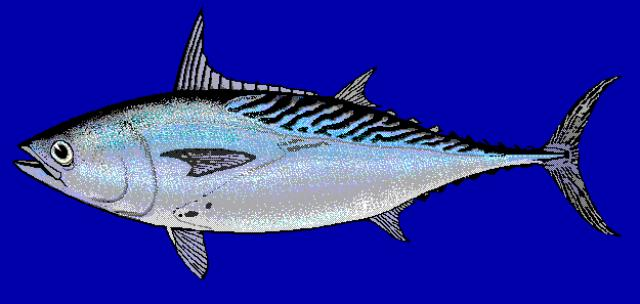Mulut: (5, 128, 56, 192)
Sirip Anal: (366, 189, 428, 252)
Sirip Dada: (155, 140, 261, 182)
Sirip Ekor: (548, 66, 628, 242)
Sirip Perut: (161, 219, 219, 287)
Sirip Punggung: (174, 5, 386, 112)
